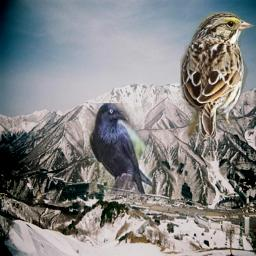Crow: (89, 103, 152, 194)
Sparrow: (180, 11, 256, 141)
